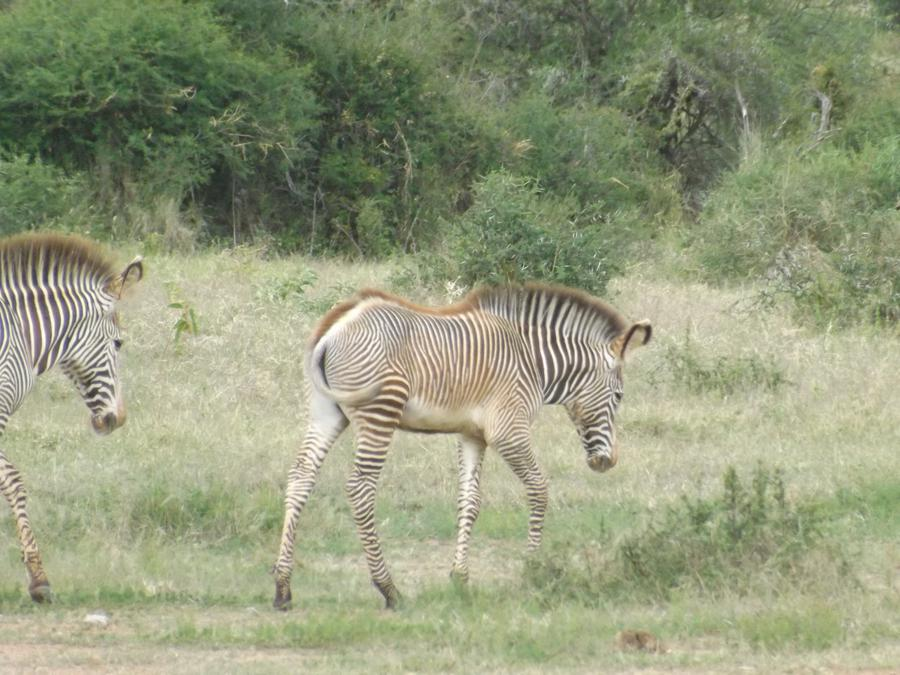zebra_grevys: (300, 279, 538, 441)
